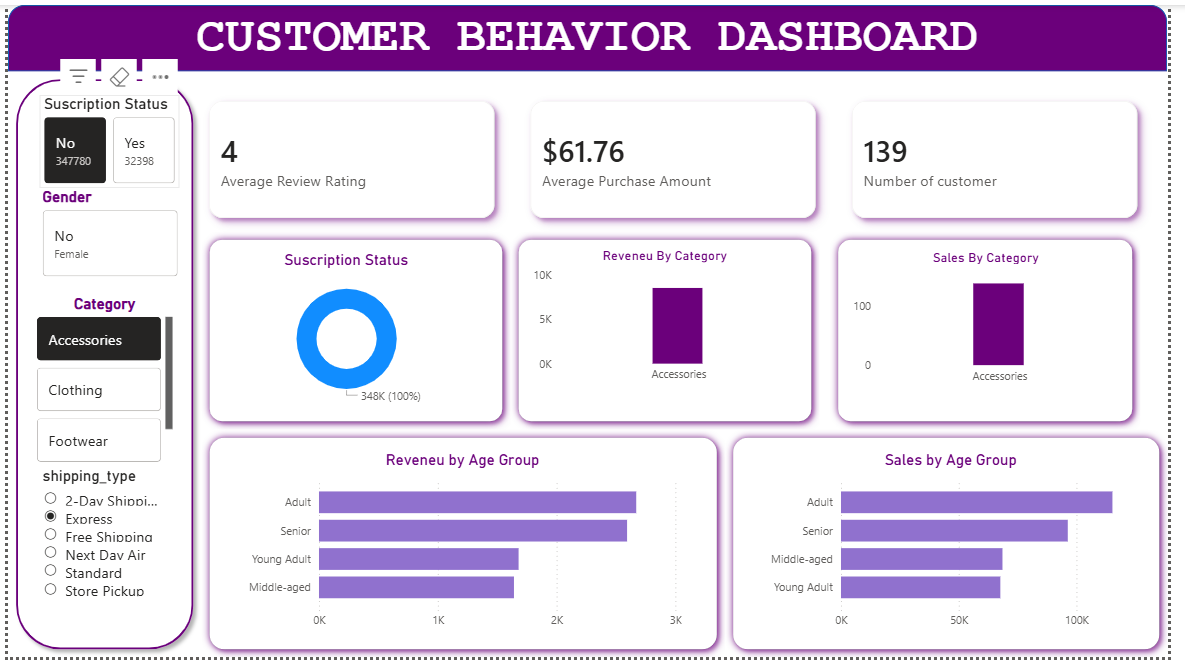

The dashboard page shown, as its layout file describes it:
{"tool":"powerbi","page":{"name":"Page 1","canvas":[1280,720],"ordinal":0},"visuals":[{"type":"cardVisual","fields":{"Data":["public customer.Average Review Rating","public customer.Average  Purchase Amount","public customer.Number of customer"]},"box":[188.3,73.3,1091.7,195],"z":0},{"type":"shape","box":[213.7,250.1,341.2,218.7],"z":1000},{"type":"shape","box":[0,0,1280,73.3],"z":2000},{"type":"textbox","box":[0,0,1280,100],"z":3000},{"type":"shape","box":[907.8,250.1,342.9,218.7],"z":4000},{"type":"shape","box":[554.9,250.1,341.2,218.7],"z":5000},{"type":"clusteredColumnChart","title":"Reveneu By Category","fields":{"Y":["Sum(public customer.purchase_amount)"],"Category":["public customer.category"]},"box":[574.8,268.3,301.5,157.4],"z":6000},{"type":"clusteredColumnChart","title":"Sales By Category","fields":{"Y":["CountNonNull(public customer.customer_id)"],"Category":["public customer.category"]},"box":[927.6,270,304.8,157.4],"z":7000},{"type":"shape","box":[0,72.9,213.7,647.7],"z":8000},{"type":"advancedSlicerVisual","title":"Category","fields":{"Values":["public customer.category"]},"box":[26.5,319.7,160.7,190.5],"z":9000},{"type":"listSlicer","fields":{"Values":["public customer.shipping_type"]},"box":[33.1,510.2,142.5,188.8],"z":10000},{"type":"advancedSlicerVisual","title":"Gender","fields":{"Values":["public customer.subscription_status"],"Label":["Min(public customer.gender)"]},"box":[33.1,202.1,159,102.7],"z":11000},{"type":"advancedSlicerVisual","title":"Suscription Status","fields":{"Values":["public customer.subscription_status"],"Label":["Sum(public customer.customer_id)"]},"box":[34.8,99.4,154.1,102.7],"z":12000},{"type":"donutChart","title":"Suscription Status","fields":{"Category":["public customer.subscription_status"],"Y":["Sum(public customer.customer_id)"]},"box":[233.6,271.7,279.9,173.9],"z":13000},{"type":"shape","box":[213.7,468.8,578.1,251.8],"z":14000},{"type":"clusteredBarChart","title":"Reveneu by Age Group","fields":{"Y":["Sum(public customer.purchase_amount)"],"Category":["public customer.age_group"]},"box":[255.1,492,493.6,205.4],"z":15000},{"type":"shape","box":[791.8,468.8,488.7,251.8],"z":16000},{"type":"clusteredBarChart","title":"Sales by Age Group","fields":{"Y":["Sum(public customer.customer_id)"],"Category":["public customer.age_group"]},"box":[831.6,492,419.1,205.4],"z":17000}]}

Visuals, with their boxes in screenshot pixels (x1, y1, x2, y2), scaled from the page's 1280x720 canvas onto the 1185x669 screenshot:
cardVisual - public customer.Average Review Rating x public customer.Average  Purchase Amount: BBox(174, 68, 1184, 249)
shape: BBox(198, 232, 514, 436)
shape: BBox(0, 0, 1184, 68)
textbox: BBox(0, 0, 1184, 93)
shape: BBox(840, 232, 1158, 436)
shape: BBox(514, 232, 830, 436)
"Reveneu By Category" clusteredColumnChart: BBox(532, 249, 811, 396)
"Sales By Category" clusteredColumnChart: BBox(859, 251, 1141, 397)
shape: BBox(0, 68, 198, 668)
"Category" advancedSlicerVisual: BBox(25, 297, 173, 474)
listSlicer - public customer.shipping_type: BBox(31, 474, 163, 649)
"Gender" advancedSlicerVisual: BBox(31, 188, 178, 283)
"Suscription Status" advancedSlicerVisual: BBox(32, 92, 175, 188)
"Suscription Status" donutChart: BBox(216, 252, 475, 414)
shape: BBox(198, 436, 733, 668)
"Reveneu by Age Group" clusteredBarChart: BBox(236, 457, 693, 648)
shape: BBox(733, 436, 1184, 668)
"Sales by Age Group" clusteredBarChart: BBox(770, 457, 1158, 648)
